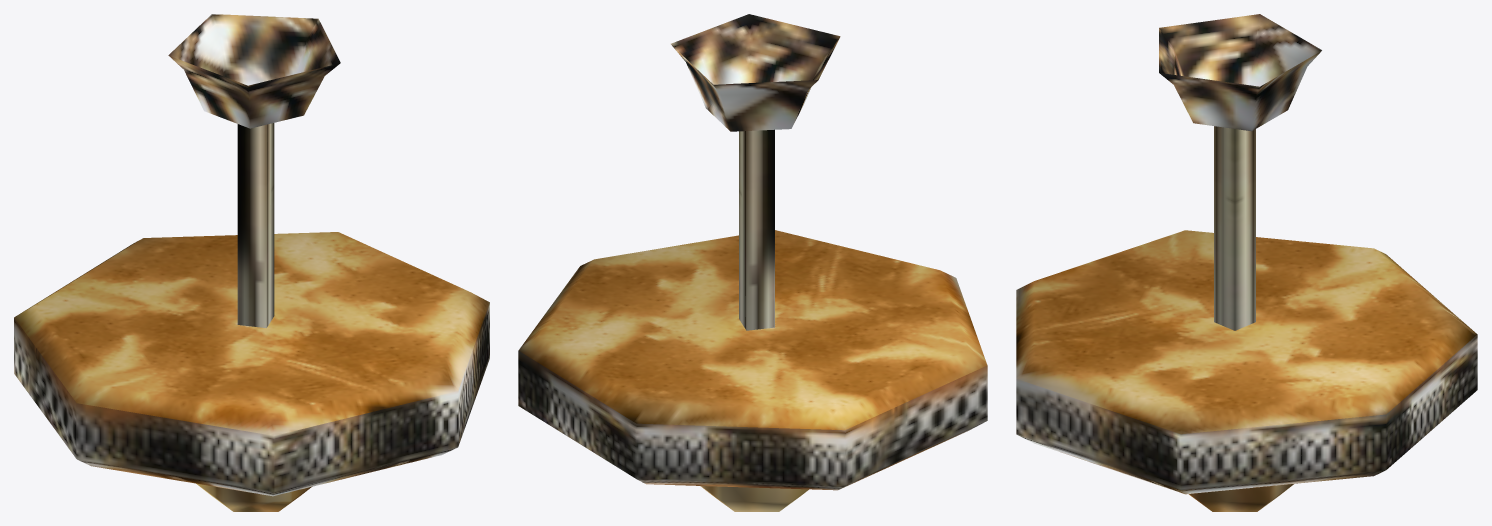
Rendered from Ceiling_Fan_02-col.glb.
3 renders of one model, left to right at view 1: azimuth 30°, elevation 25°; view 2: azimuth 150°, elevation 25°; view 3: azimuth 270°, elevation 25°, orthographic.
Visible parts, largest first — view 1: Ceiling_Fan_02-col; view 2: Ceiling_Fan_02-col; view 3: Ceiling_Fan_02-col.
Boxes of the visible parts, <box> form: Ceiling_Fan_02-col: <box>14,14,489,511</box>; Ceiling_Fan_02-col: <box>518,14,987,511</box>; Ceiling_Fan_02-col: <box>1016,14,1477,511</box>.
Bounding box in the file's own units: 0.5701 × 0.5923 × 0.5558.
1 material, 1 textured.
